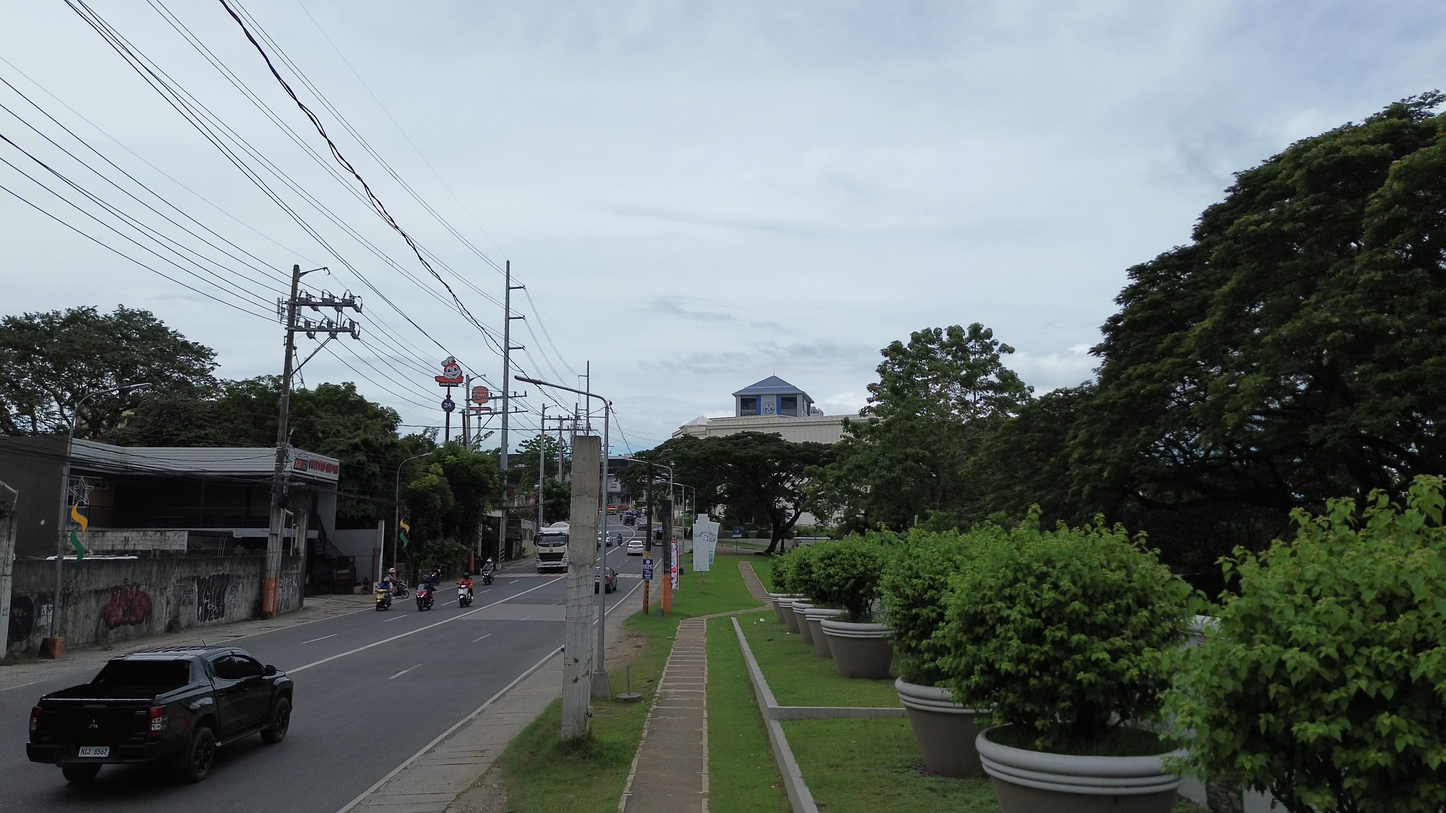car: (605, 567, 618, 593)
motorcycle: (415, 583, 434, 611), (375, 582, 392, 611), (458, 585, 472, 607), (482, 572, 494, 585)
vehicle: (26, 646, 293, 782), (536, 523, 569, 572), (415, 582, 435, 611), (375, 582, 392, 611), (604, 567, 618, 593), (458, 583, 473, 607), (626, 539, 645, 556)
